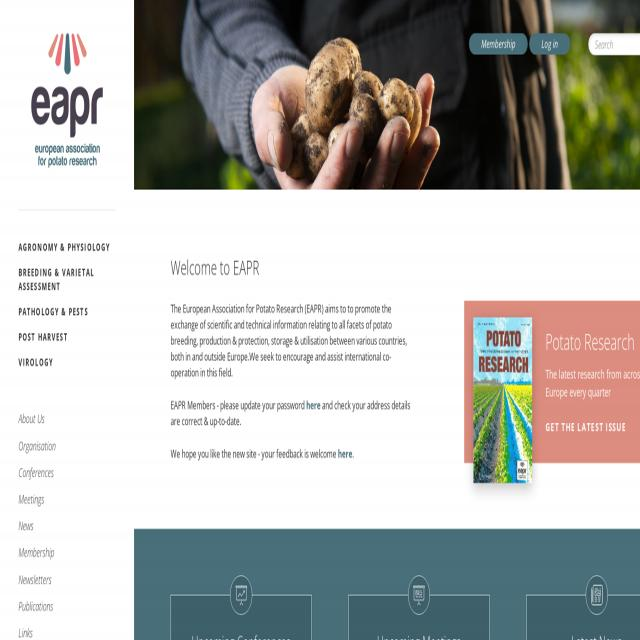button: (30, 33, 104, 168), (473, 317, 532, 483), (348, 595, 490, 640), (170, 595, 311, 640), (526, 593, 640, 640), (468, 33, 528, 55), (529, 33, 570, 55), (586, 575, 608, 616), (408, 574, 430, 614), (230, 575, 252, 615)
field: (588, 34, 640, 55)
